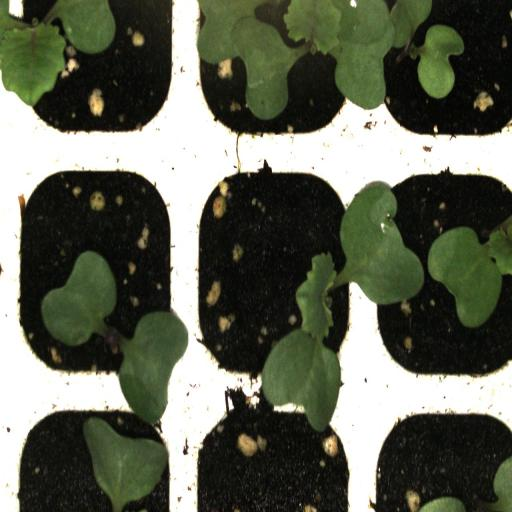Folha: (196, 0, 432, 120), (118, 311, 188, 425), (41, 250, 117, 346), (415, 24, 464, 99)
Germinacao: (180, 156, 367, 396), (8, 154, 184, 394), (368, 156, 512, 394), (4, 1, 186, 164), (369, 1, 512, 157)
